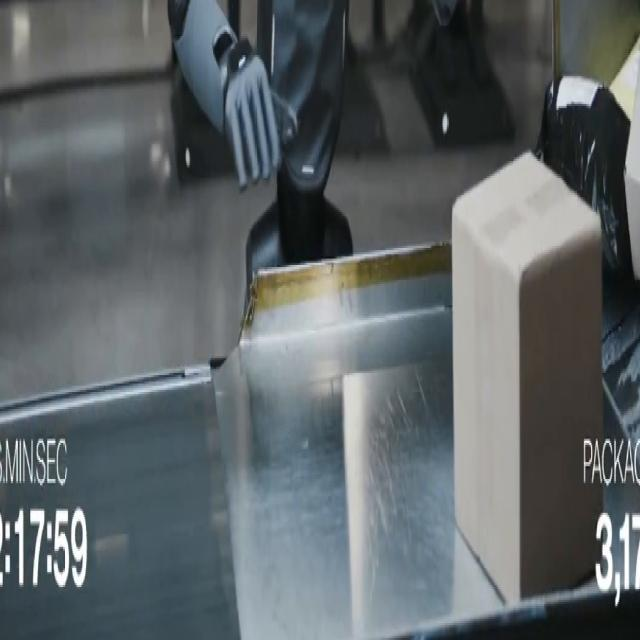package: (453, 153, 602, 601), (535, 77, 631, 275), (625, 83, 639, 279), (610, 39, 639, 120)
